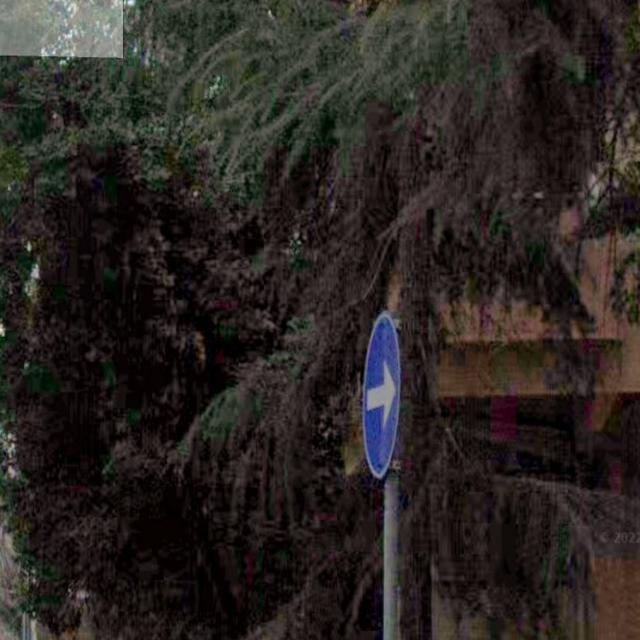Turn Right: (366, 313, 405, 475)
